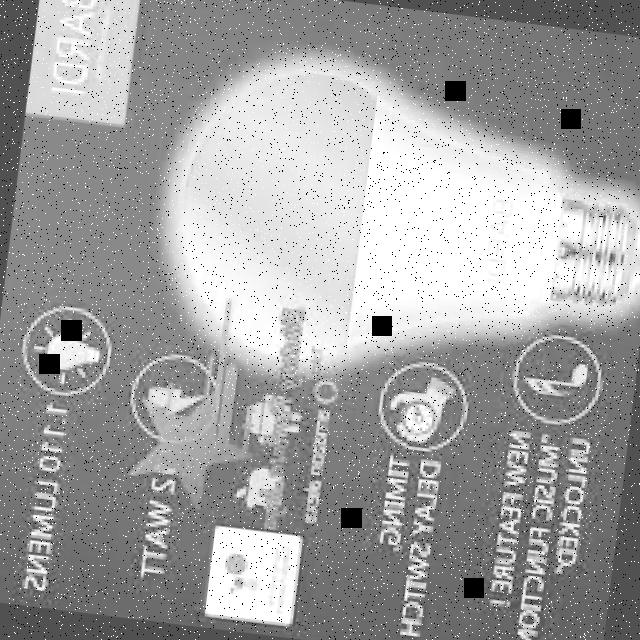light_bulb: (139, 43, 640, 410)
